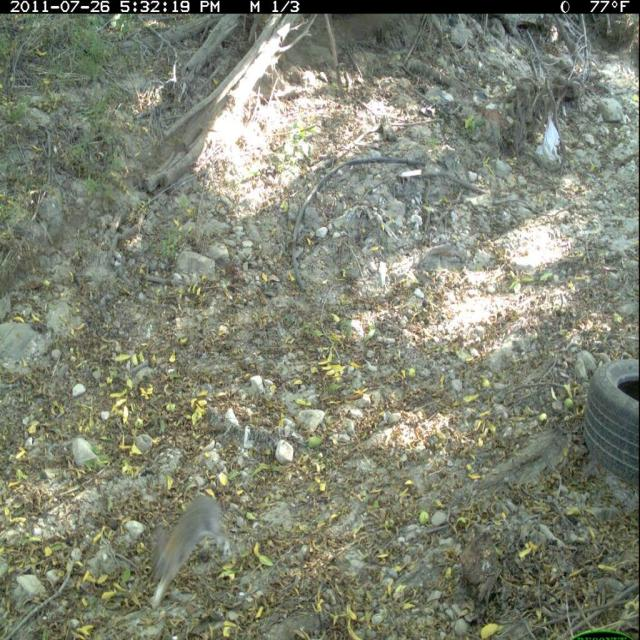rabbit: (143, 489, 233, 613)
